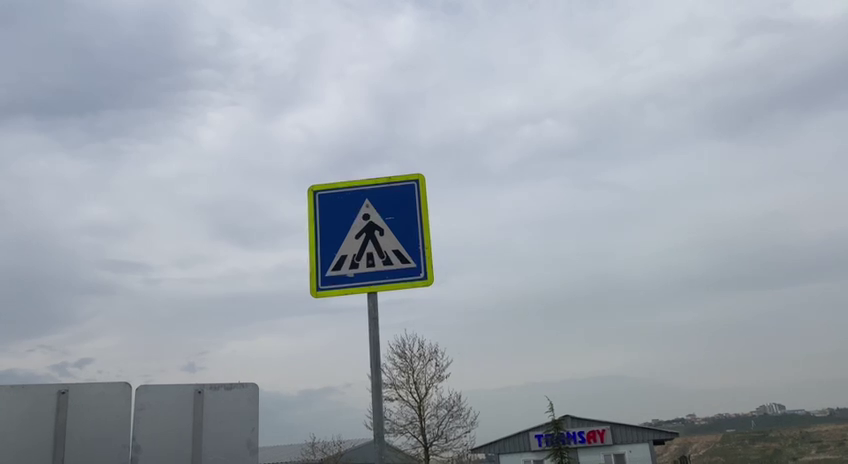pedestrianCrossing: (305, 168, 437, 300)
